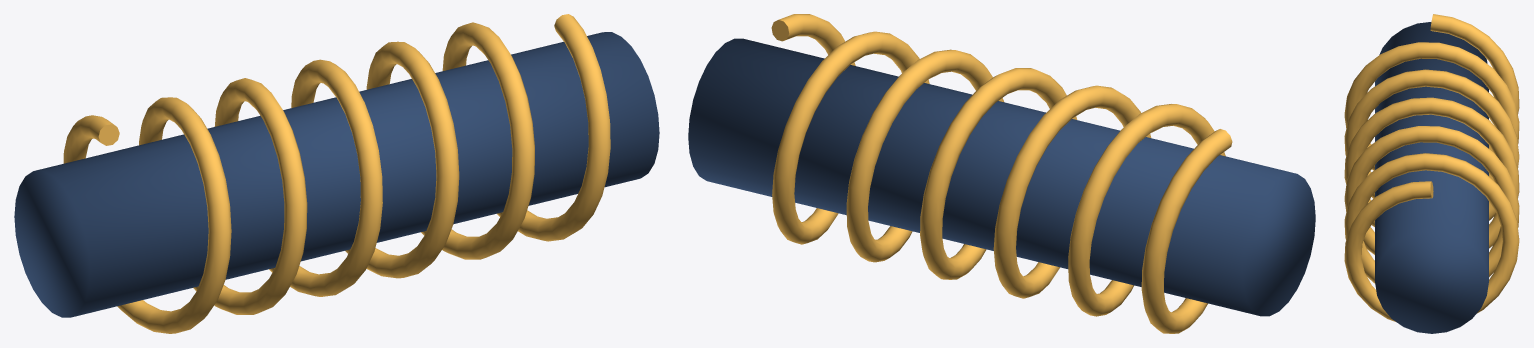
Rendered from solenoid-quality.glb.
The picture shows the model from 3 angles, left to right: view 1: azimuth 30°, elevation 25°; view 2: azimuth 150°, elevation 25°; view 3: azimuth 270°, elevation 25°; orthographic projection. The views are drawn at different scales.
Parts seen in each view (by area): view 1: Core; view 2: Core; view 3: Core.
Part boxes in pixels (bbox=[...]): Core: bbox=[14, 14, 659, 333]; Core: bbox=[688, 14, 1315, 333]; Core: bbox=[1344, 14, 1519, 333].
Bounding box in the file's own units: 2 × 0.7074 × 0.7074.
